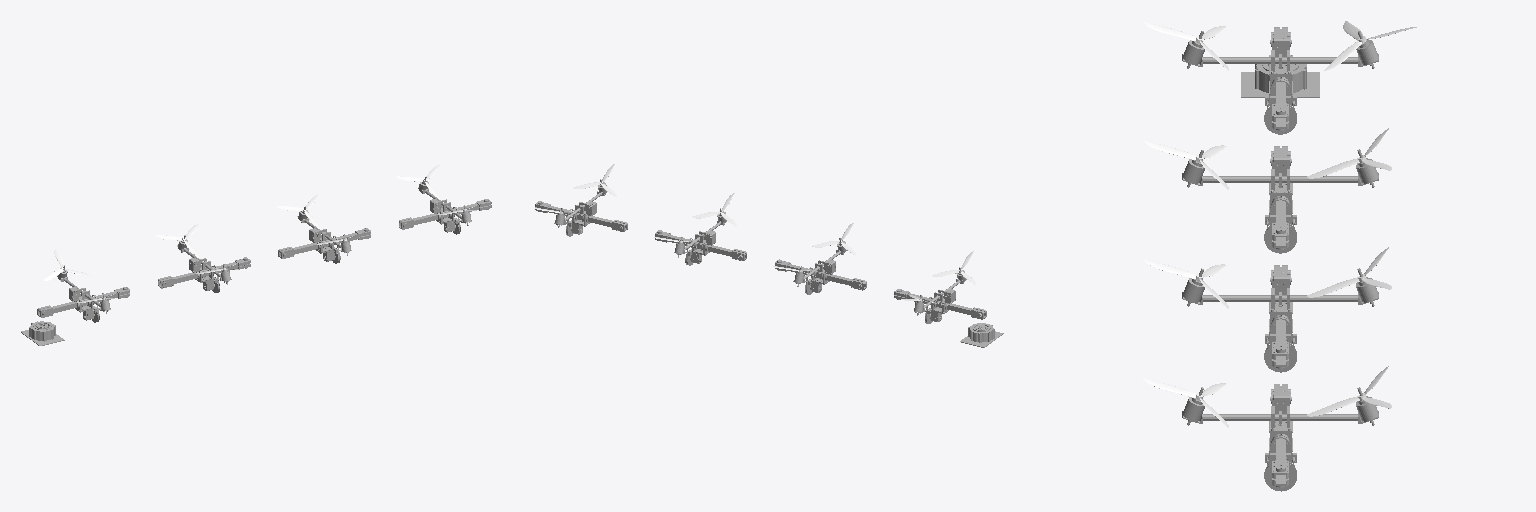
--- Facts derived from the render (not from the file) ---
The picture shows the robot from 3 angles, left to right: view 1: azimuth 30°, elevation 25°; view 2: azimuth 150°, elevation 25°; view 3: azimuth 270°, elevation 25°; orthographic projection.
Model dynarm with 25 links and 24 joints (16 revolute, 8 continuous), rooted at link0_yaw, posed all joints at 0.
Visible links, largest first — view 1: link0_yaw, link2, link1, link3, link4, gimbal3_roll_link, gimbal4_roll_link, gimbal2_roll_link, gimbal1_roll_link; view 2: link0_yaw, link2, link4, link3, link1, gimbal4_roll_link, gimbal1_roll_link, gimbal2_roll_link, gimbal3_roll_link; view 3: gimbal3_pitch_link, gimbal4_pitch_link, gimbal2_pitch_link, gimbal1_pitch_link, link0_yaw, gimbal2_roll_link, gimbal3_roll_link, gimbal1_roll_link, gimbal4_roll_link, link1, link3, link4 (+9 smaller).
Link boxes in pixels (box(x1,y1,x2,y2)): link0_yaw: box(21, 321, 64, 345); link2: box(158, 257, 250, 288); link1: box(37, 287, 129, 317); link3: box(278, 228, 370, 258); link4: box(399, 199, 491, 229); gimbal3_roll_link: box(309, 228, 340, 263); gimbal4_roll_link: box(430, 199, 460, 234); gimbal2_roll_link: box(189, 258, 219, 292); gimbal1_roll_link: box(69, 287, 99, 322); link0_yaw: box(960, 323, 1003, 347); link2: box(775, 259, 866, 290); link4: box(535, 201, 627, 231); link3: box(655, 230, 746, 260); link1: box(894, 289, 986, 319); gimbal4_roll_link: box(566, 201, 596, 236); gimbal1_roll_link: box(925, 289, 955, 323); gimbal2_roll_link: box(805, 260, 835, 294); gimbal3_roll_link: box(685, 230, 715, 265); gimbal3_pitch_link: box(1182, 268, 1378, 306); gimbal4_pitch_link: box(1182, 387, 1378, 425); gimbal2_pitch_link: box(1182, 149, 1378, 187); gimbal1_pitch_link: box(1182, 31, 1378, 68); link0_yaw: box(1241, 55, 1319, 97); gimbal2_roll_link: box(1264, 153, 1296, 253); gimbal3_roll_link: box(1264, 272, 1296, 372); gimbal1_roll_link: box(1264, 34, 1296, 134); gimbal4_roll_link: box(1264, 391, 1296, 491); link1: box(1271, 27, 1290, 130); link3: box(1271, 265, 1290, 368); link4: box(1271, 384, 1290, 487).
Size in the robot's own frame: 2.05 by 0.5227 by 0.2345 metres.
21 mesh visuals loaded from 25 distinct referenced files (21 binary STL); not drawn: 4 (reference not matched to a file when rendering).

robot.urdf — dynarm:
<?xml version="1.0" encoding="utf-8"?>
<!-- This URDF was automatically created by SolidWorks to URDF Exporter! Originally created by Stephen Brawner ([email redacted])
     Commit Version:   Build Version: 1.6.9177.32434
     For more information, please see http://wiki.ros.org/sw_urdf_exporter -->
<robot
  name="dynarm">
  <link
    name="link0_yaw">
    <inertial>
      <origin
        xyz="3.31255956252976E-05 1.15658100248258E-05 0.012805655443526"
        rpy="0 0 0" />
      <mass
        value="0.202835209357215" />
      <inertia
        ixx="0.000313884810342584"
        ixy="7.84593995762058E-08"
        ixz="1.65209076612003E-08"
        iyy="0.000194943598185669"
        iyz="1.00214618614055E-07"
        izz="0.000493468590754404" />
    </inertial>
    <visual>
      <origin
        xyz="0 0 0"
        rpy="0 0 0" />
      <geometry>
        <mesh
          filename="package://dynarm/meshes/link0_yaw.STL" />
      </geometry>
      <material
        name="">
        <color
          rgba="0.752941176470588 0.752941176470588 0.752941176470588 1" />
      </material>
    </visual>
    <collision>
      <origin
        xyz="0 0 0"
        rpy="0 0 0" />
      <geometry>
        <mesh
          filename="package://dynarm/meshes/link0_yaw.STL" />
      </geometry>
    </collision>
  </link>
  <link
    name="link0_pitch">
    <inertial>
      <origin
        xyz="2.75682995683624E-05 -0.0207254370925221 0.0330796625665108"
        rpy="0 0 0" />
      <mass
        value="0.243723306465681" />
      <inertia
        ixx="0.000542727956132241"
        ixy="1.65209076612627E-08"
        ixz="-7.84593995762679E-08"
        iyy="0.000303489729556367"
        iyz="-5.21956901971195E-05"
        izz="0.000613838498216042" />
    </inertial>
    <visual>
      <origin
        xyz="0 0 0"
        rpy="0 0 0" />
      <geometry>
        <mesh
          filename="package://dynarm/meshes/link0_pitch.STL" />
      </geometry>
      <material
        name="">
        <color
          rgba="0.752941176470588 0.752941176470588 0.752941176470588 1" />
      </material>
    </visual>
    <collision>
      <origin
        xyz="0 0 0"
        rpy="0 0 0" />
      <geometry>
        <mesh
          filename="package://dynarm/meshes/link0_pitch.STL" />
      </geometry>
    </collision>
  </link>
  <joint
    name="joint0_yaw"
    type="revolute">
    <origin
      xyz="0 0 0.045"
      rpy="0 0 0" />
    <parent
      link="link0_yaw" />
    <child
      link="link0_pitch" />
    <axis
      xyz="0 0 1" />
    <limit
      lower="-1.57"
      upper="1.57"
      effort="60"
      velocity="18" />
  </joint>
  <link
    name="link1">
    <inertial>
      <origin
        xyz="0.185 -3.17712745352656E-12 1.11022302462516E-15"
        rpy="0 0 0" />
      <mass
        value="0.0840915711089313" />
      <inertia
        ixx="1.14003870333859E-05"
        ixy="3.20420589044303E-20"
        ixz="-1.14579622871697E-12"
        iyy="0.000616207420184558"
        iyz="-1.60102285053397E-21"
        izz="0.000616279232581621" />
    </inertial>
    <visual>
      <origin
        xyz="0 0 0"
        rpy="0 0 0" />
      <geometry>
        <mesh
          filename="package://dynarm/meshes/link1.STL" />
      </geometry>
      <material
        name="">
        <color
          rgba="0.752941176470588 0.752941176470588 0.752941176470588 1" />
      </material>
    </visual>
    <collision>
      <origin
        xyz="0 0 0"
        rpy="0 0 0" />
      <geometry>
        <mesh
          filename="package://dynarm/meshes/link1.STL" />
      </geometry>
    </collision>
  </link>
  <joint
    name="joint0_pitch"
    type="revolute">
    <origin
      xyz="0 0 0.057"
      rpy="0 0 0" />
    <parent
      link="link0_pitch" />
    <child
      link="link1" />
    <axis
      xyz="0 1 0" />
    <limit
      lower="-1.57"
      upper="1.57"
      effort="60"
      velocity="18" />
  </joint>
  <link
    name="joint_junction1">
    <inertial>
      <origin
        xyz="0.0835022641004513 -0.00234984407754755 0.00234984407754885"
        rpy="0 0 0" />
      <mass
        value="0.291440287737061" />
      <inertia
        ixx="6.00364250648426E-05"
        ixy="-6.07955484455447E-08"
        ixz="-6.07955484415956E-08"
        iyy="0.000152064824279413"
        iyz="-8.9023224797137E-13"
        izz="0.000152064824279408" />
    </inertial>
    <visual>
      <origin
        xyz="0 0 0"
        rpy="0 0 0" />
      <geometry>
        <mesh
          filename="package://dynarm/meshes/joint_junction1.STL" />
      </geometry>
      <material
        name="">
        <color
          rgba="0.752941176470588 0.752941176470588 0.752941176470588 1" />
      </material>
    </visual>
    <collision>
      <origin
        xyz="0 0 0"
        rpy="0 0 0" />
      <geometry>
        <mesh
          filename="package://dynarm/meshes/joint_junction1.STL" />
      </geometry>
    </collision>
  </link>
  <joint
    name="joint1_yaw"
    type="revolute">
    <origin
      xyz="0.37 0 0"
      rpy="0 0 0" />
    <parent
      link="link1" />
    <child
      link="joint_junction1" />
    <axis
      xyz="0 0 1" />
    <limit
      lower="-1.57"
      upper="1.57"
      effort="20"
      velocity="7" />
  </joint>
  <link
    name="link2">
    <inertial>
      <origin
        xyz="0.185 -3.17712538652889E-12 1.13797860024079E-15"
        rpy="0 0 0" />
      <mass
        value="0.0840915711089313" />
      <inertia
        ixx="1.14003870333859E-05"
        ixy="3.61454276921128E-20"
        ixz="-1.14579625393598E-12"
        iyy="0.000616207420184558"
        iyz="4.67312622535356E-22"
        izz="0.00061627923258162" />
    </inertial>
    <visual>
      <origin
        xyz="0 0 0"
        rpy="0 0 0" />
      <geometry>
        <mesh
          filename="package://dynarm/meshes/link2.STL" />
      </geometry>
      <material
        name="">
        <color
          rgba="0.752941176470588 0.752941176470588 0.752941176470588 1" />
      </material>
    </visual>
    <collision>
      <origin
        xyz="0 0 0"
        rpy="0 0 0" />
      <geometry>
        <mesh
          filename="package://dynarm/meshes/link2.STL" />
      </geometry>
    </collision>
  </link>
  <joint
    name="joint1_pitch"
    type="revolute">
    <origin
      xyz="0.167 0 0"
      rpy="0 0 0" />
    <parent
      link="joint_junction1" />
    <child
      link="link2" />
    <axis
      xyz="0 1 0" />
    <limit
      lower="-1.57"
      upper="1.57"
      effort="20"
      velocity="7" />
  </joint>
  <link
    name="joint_junction2">
    <inertial>
      <origin
        xyz="0.08350226410045 -0.00234984407754901 0.00234984407754869"
        rpy="0 0 0" />
      <mass
        value="0.291440287737085" />
      <inertia
        ixx="6.00364250648492E-05"
        ixy="-6.079554844056E-08"
        ixz="-6.07955484397667E-08"
        iyy="0.000152064824279416"
        iyz="-8.90236117288688E-13"
        izz="0.000152064824279417" />
    </inertial>
    <visual>
      <origin
        xyz="0 0 0"
        rpy="0 0 0" />
      <geometry>
        <mesh
          filename="package://dynarm/meshes/joint_junction2.STL" />
      </geometry>
      <material
        name="">
        <color
          rgba="0.752941176470588 0.752941176470588 0.752941176470588 1" />
      </material>
    </visual>
    <collision>
      <origin
        xyz="0 0 0"
        rpy="0 0 0" />
      <geometry>
        <mesh
          filename="package://dynarm/meshes/joint_junction2.STL" />
      </geometry>
    </collision>
  </link>
  <joint
    name="joint2_yaw"
    type="revolute">
    <origin
      xyz="0.37 0 0"
      rpy="0 0 0" />
    <parent
      link="link2" />
    <child
      link="joint_junction2" />
    <axis
      xyz="0 0 1" />
    <limit
      lower="-1.57"
      upper="1.57"
      effort="20"
      velocity="7" />
  </joint>
  <link
    name="link3">
    <inertial>
      <origin
        xyz="0.184999999999999 -3.17700950097411E-12 1.02695629777827E-15"
        rpy="0 0 0" />
      <mass
        value="0.0840915711089313" />
      <inertia
        ixx="1.14003870333859E-05"
        ixy="6.8336355717333E-20"
        ixz="-1.14579626970238E-12"
        iyy="0.000616207420184558"
        iyz="-1.85491734600047E-22"
        izz="0.00061627923258162" />
    </inertial>
    <visual>
      <origin
        xyz="0 0 0"
        rpy="0 0 0" />
      <geometry>
        <mesh
          filename="package://dynarm/meshes/link3.STL" />
      </geometry>
      <material
        name="">
        <color
          rgba="0.752941176470588 0.752941176470588 0.752941176470588 1" />
      </material>
    </visual>
    <collision>
      <origin
        xyz="0 0 0"
        rpy="0 0 0" />
      <geometry>
        <mesh
          filename="package://dynarm/meshes/link3.STL" />
      </geometry>
    </collision>
  </link>
  <joint
    name="joint2_pitch"
    type="revolute">
    <origin
      xyz="0.167 0 0"
      rpy="0 0 0" />
    <parent
      link="joint_junction2" />
    <child
      link="link3" />
    <axis
      xyz="0 1 0" />
    <limit
      lower="-1.57"
      upper="1.57"
      effort="20"
      velocity="7" />
  </joint>
  <link
    name="joint_junction3">
    <inertial>
      <origin
        xyz="0.0835022641004497 -0.00234984407754898 0.00234984407754882"
        rpy="0 0 0" />
      <mass
        value="0.29144028773709" />
      <inertia
        ixx="6.00364250648493E-05"
        ixy="-6.07955484411552E-08"
        ixz="-6.07955484399088E-08"
        iyy="0.000152064824279418"
        iyz="-8.90235946148651E-13"
        izz="0.000152064824279418" />
    </inertial>
    <visual>
      <origin
        xyz="0 0 0"
        rpy="0 0 0" />
      <geometry>
        <mesh
          filename="package://dynarm/meshes/joint_junction3.STL" />
      </geometry>
      <material
        name="">
        <color
          rgba="0.752941176470588 0.752941176470588 0.752941176470588 1" />
      </material>
    </visual>
    <collision>
      <origin
        xyz="0 0 0"
        rpy="0 0 0" />
      <geometry>
        <mesh
          filename="package://dynarm/meshes/joint_junction3.STL" />
      </geometry>
    </collision>
  </link>
  <joint
    name="joint3_yaw"
    type="revolute">
    <origin
      xyz="0.37 0 0"
      rpy="0 0 0" />
    <parent
      link="link3" />
    <child
      link="joint_junction3" />
    <axis
      xyz="0 0 1" />
    <limit
      lower="-1.57"
      upper="1.57"
      effort="20"
      velocity="7" />
  </joint>
  <link
    name="link4">
    <inertial>
      <origin
        xyz="0.185 -3.1771276198254E-12 1.12410081243297E-15"
        rpy="0 0 0" />
      <mass
        value="0.0840915711089313" />
      <inertia
        ixx="1.14003870333859E-05"
        ixy="6.71390156612718E-20"
        ixz="-1.14579628044419E-12"
        iyy="0.000616207420184558"
        iyz="-1.35412586657382E-21"
        izz="0.000616279232581621" />
    </inertial>
    <visual>
      <origin
        xyz="0 0 0"
        rpy="0 0 0" />
      <geometry>
        <mesh
          filename="package://dynarm/meshes/link4.STL" />
      </geometry>
      <material
        name="">
        <color
          rgba="0.752941176470588 0.752941176470588 0.752941176470588 1" />
      </material>
    </visual>
    <collision>
      <origin
        xyz="0 0 0"
        rpy="0 0 0" />
      <geometry>
        <mesh
          filename="package://dynarm/meshes/link4.STL" />
      </geometry>
    </collision>
  </link>
  <joint
    name="joint3_pitch"
    type="revolute">
    <origin
      xyz="0.167 0 0"
      rpy="0 0 0" />
    <parent
      link="joint_junction3" />
    <child
      link="link4" />
    <axis
      xyz="0 1 0" />
    <limit
      lower="-1.57"
      upper="1.57"
      effort="20"
      velocity="7" />
  </joint>
  <link
    name="gimbal4_roll_link">
    <inertial>
      <origin
        xyz="-0.00313199549125609 0.000175760802133387 -0.00796401788663213"
        rpy="0 0 0" />
      <mass
        value="0.335622086319264" />
      <inertia
        ixx="8.61300964446551E-05"
        ixy="-2.80491938176827E-08"
        ixz="1.16176930623622E-06"
        iyy="8.58040377038163E-05"
        iyz="-6.72934804709772E-07"
        izz="6.7292635546809E-05" />
    </inertial>
    <visual>
      <origin
        xyz="0 0 0"
        rpy="0 0 0" />
      <geometry>
        <mesh
          filename="package://dynarm/meshes/gimbal4_roll_link.STL" />
      </geometry>
      <material
        name="">
        <color
          rgba="0.752941176470588 0.752941176470588 0.752941176470588 1" />
      </material>
    </visual>
    <collision>
      <origin
        xyz="0 0 0"
        rpy="0 0 0" />
      <geometry>
        <mesh
          filename="package://dynarm/meshes/gimbal4_roll_link.STL" />
      </geometry>
    </collision>
  </link>
  <joint
    name="gimbal4_roll"
    type="revolute">
    <origin
      xyz="0.185 0 0"
      rpy="0 0 0" />
    <parent
      link="link4" />
    <child
      link="gimbal4_roll_link" />
    <axis
      xyz="1 0 0" />
    <limit
      lower="0"
      upper="0"
      effort="0"
      velocity="0" />
  </joint>
  <link
    name="gimbal4_pitch_link">
    <inertial>
      <origin
        xyz="7.7339246118413E-11 -1.0131752370262E-09 0.0209107926512141"
        rpy="0 0 0" />
      <mass
        value="0.299322163107954" />
      <inertia
        ixx="0.000240672498816337"
        ixy="4.64638431751806E-10"
        ixz="2.39568155202262E-14"
        iyy="0.000132329423602379"
        iyz="2.71507600986251E-13"
        izz="0.000313989589389247" />
    </inertial>
    <visual>
      <origin
        xyz="0 0 0"
        rpy="0 0 0" />
      <geometry>
        <mesh
          filename="package://dynarm/meshes/gimbal4_pitch_link.STL" />
      </geometry>
      <material
        name="">
        <color
          rgba="0.752941176470588 0.752941176470588 0.752941176470588 1" />
      </material>
    </visual>
    <collision>
      <origin
        xyz="0 0 0"
        rpy="0 0 0" />
      <geometry>
        <mesh
          filename="package://dynarm/meshes/gimbal4_pitch_link.STL" />
      </geometry>
    </collision>
  </link>
  <joint
    name="gimbal4_pitch"
    type="revolute">
    <origin
      xyz="0 0 0.0375"
      rpy="0 0 0" />
    <parent
      link="gimbal4_roll_link" />
    <child
      link="gimbal4_pitch_link" />
    <axis
      xyz="0 1 0" />
    <limit
      lower="0"
      upper="0"
      effort="0"
      velocity="0" />
  </joint>
  <link
    name="thrust7">
    <inertial>
      <origin
        xyz="-1.08574846098989 -0.181723132944138 0.0223263889567198"
        rpy="0 0 0" />
      <mass
        value="6.97204839826119" />
      <inertia
        ixx="0.053705335177004"
        ixy="-0.058392183804613"
        ixz="-0.0631195693330624"
        iyy="2.81026516998183"
        iyz="0.00775655772655853"
        izz="2.8283403743391" />
    </inertial>
    <visual>
      <origin
        xyz="0 0 0"
        rpy="0 0 0" />
      <geometry>
        <mesh
          filename="package://dynarm/meshes/thrust7.STL" />
      </geometry>
      <material
        name="">
        <color
          rgba="1 1 1 1" />
      </material>
    </visual>
    <collision>
      <origin
        xyz="0 0 0"
        rpy="0 0 0" />
      <geometry>
        <mesh
          filename="package://dynarm/meshes/thrust7.STL" />
      </geometry>
    </collision>
  </link>
  <joint
    name="rotor7"
    type="continuous">
    <origin
      xyz="0 0.1708 0.001457"
      rpy="0.34907 0 0" />
    <parent
      link="gimbal4_pitch_link" />
    <child
      link="thrust7" />
    <axis
      xyz="0 0 1" />
    <limit
      lower="0"
      upper="25"
      effort="100"
      velocity="0.5" />
  </joint>
  <link
    name="thrust8">
    <inertial>
      <origin
        xyz="-1.08574846098989 0.167444343720301 0.0171293346978822"
        rpy="0 0 0" />
      <mass
        value="6.97204839826119" />
      <inertia
        ixx="0.053705335177004"
        ixy="-0.00415853082906267"
        ixz="-0.0858861675918003"
        iyy="2.81009469082587"
        iyz="-0.00755338857997578"
        izz="2.82851085349507" />
    </inertial>
    <visual>
      <origin
        xyz="0 0 0"
        rpy="0 0 0" />
      <geometry>
        <mesh
          filename="package://dynarm/meshes/thrust8.STL" />
      </geometry>
      <material
        name="">
        <color
          rgba="1 1 1 1" />
      </material>
    </visual>
    <collision>
      <origin
        xyz="0 0 0"
        rpy="0 0 0" />
      <geometry>
        <mesh
          filename="package://dynarm/meshes/thrust8.STL" />
      </geometry>
    </collision>
  </link>
  <joint
    name="rotor8"
    type="continuous">
    <origin
      xyz="0 -0.1708 0.001457"
      rpy="-0.34907 0 0" />
    <parent
      link="gimbal4_pitch_link" />
    <child
      link="thrust8" />
    <axis
      xyz="0 0 -1" />
    <limit
      lower="0"
      upper="25"
      effort="100"
      velocity="0.5" />
  </joint>
  <link
    name="gimbal3_roll_link">
    <inertial>
      <origin
        xyz="-0.00313199549125742 0.000175760802133396 -0.0079640178866323"
        rpy="0 0 0" />
      <mass
        value="0.335622086319265" />
      <inertia
        ixx="8.61300964446562E-05"
        ixy="-2.80491938176786E-08"
        ixz="1.16176930623628E-06"
        iyy="8.58040377038171E-05"
        iyz="-6.7293480470975E-07"
        izz="6.7292635546809E-05" />
    </inertial>
    <visual>
      <origin
        xyz="0 0 0"
        rpy="0 0 0" />
      <geometry>
        <mesh
          filename="package://dynarm/meshes/gimbal3_roll_link.STL" />
      </geometry>
      <material
        name="">
        <color
          rgba="0.752941176470588 0.752941176470588 0.752941176470588 1" />
      </material>
    </visual>
    <collision>
      <origin
        xyz="0 0 0"
        rpy="0 0 0" />
      <geometry>
        <mesh
          filename="package://dynarm/meshes/gimbal3_roll_link.STL" />
      </geometry>
    </collision>
  </link>
  <joint
    name="gimbal3_roll"
    type="revolute">
    <origin
      xyz="0.185 0 0"
      rpy="0 0 0" />
    <parent
      link="link3" />
    <child
      link="gimbal3_roll_link" />
    <axis
      xyz="1 0 0" />
    <limit
      lower="0"
      upper="0"
      effort="0"
      velocity="0" />
  </joint>
  <link
    name="gimbal3_pitch_link">
    <inertial>
      <origin
        xyz="2.25772733841723E-10 3.44750054786651E-11 0.0209107926922538"
        rpy="0 0 0" />
      <mass
        value="0.299322164256617" />
      <inertia
        ixx="0.000240672499850655"
        ixy="4.63874656851277E-10"
        ixz="4.8113733835696E-13"
        iyy="0.000132329430343243"
        iyz="-8.38414010086978E-14"
        izz="0.000313989596923369" />
    </inertial>
    <visual>
      <origin
        xyz="0 0 0"
        rpy="0 0 0" />
      <geometry>
        <mesh
          filename="package://dynarm/meshes/gimbal3_pitch_link.STL" />
      </geometry>
      <material
        name="">
        <color
          rgba="0.752941176470588 0.752941176470588 0.752941176470588 1" />
      </material>
    </visual>
    <collision>
      <origin
        xyz="0 0 0"
        rpy="0 0 0" />
      <geometry>
        <mesh
          filename="package://dynarm/meshes/gimbal3_pitch_link.STL" />
      </geometry>
    </collision>
  </link>
  <joint
    name="gimbal3_pitch"
    type="revolute">
    <origin
      xyz="0 0 0.0375"
      rpy="0 0 0" />
    <parent
      link="gimbal3_roll_link" />
    <child
      link="gimbal3_pitch_link" />
    <axis
      xyz="0 1 0" />
    <limit
      lower="0"
      upper="0"
      effort="0"
      velocity="0" />
  </joint>
  <link
    name="thrust5">
    <inertial>
      <origin
        xyz="-0.548748460989885 -0.18172313294414 0.0223263889567321"
        rpy="0 0 0" />
      <mass
        value="6.97204839826119" />
      <inertia
        ixx="0.0537053351770021"
        ixy="-0.0583921838046033"
        ixz="-0.0631195693330295"
        iyy="2.81026516998183"
        iyz="0.00775655772655953"
        izz="2.82834037433911" />
    </inertial>
    <visual>
      <origin
        xyz="0 0 0"
        rpy="0 0 0" />
      <geometry>
        <mesh
          filename="package://dynarm/meshes/thrust5.STL" />
      </geometry>
      <material
        name="">
        <color
          rgba="1 1 1 1" />
      </material>
    </visual>
    <collision>
      <origin
        xyz="0 0 0"
        rpy="0 0 0" />
      <geometry>
        <mesh
          filename="package://dynarm/meshes/thrust5.STL" />
      </geometry>
    </collision>
  </link>
  <joint
    name="rotor5"
    type="continuous">
    <origin
      xyz="0 0.1708 0.001457"
      rpy="0.34907 0 0" />
    <parent
      link="gimbal3_pitch_link" />
    <child
      link="thrust5" />
    <axis
      xyz="0 0 1" />
    <limit
      lower="0"
      upper="25"
      effort="100"
      velocity="0.5" />
  </joint>
  <link
    name="thrust6">
    <inertial>
      <origin
        xyz="-0.548748460989885 0.167444343720292 0.0171293346978902"
        rpy="0 0 0" />
      <mass
        value="6.97204839826119" />
      <inertia
        ixx="0.0537053351770021"
        ixy="-0.00415853082907617"
        ixz="-0.0858861675917688"
        iyy="2.81009469082587"
        iyz="-0.00755338857997612"
        izz="2.82851085349507" />
    </inertial>
    <visual>
      <origin
        xyz="0 0 0"
        rpy="0 0 0" />
      <geometry>
        <mesh
          filename="package://dynarm/meshes/thrust6.STL" />
      </geometry>
      <material
        name="">
        <color
          rgba="1 1 1 1" />
      </material>
    </visual>
    <collision>
      <origin
        xyz="0 0 0"
        rpy="0 0 0" />
      <geometry>
        <mesh
          filename="package://dynarm/meshes/thrust6.STL" />
      </geometry>
    </collision>
  </link>
  <joint
    name="rotor6"
    type="continuous">
    <origin
      xyz="0 -0.1708 0.001457"
      rpy="-0.34907 0 0" />
    <parent
      link="gimbal3_pitch_link" />
    <child
      link="thrust6" />
    <axis
      xyz="0 0 -1" />
    <limit
      lower="0"
      upper="25"
      effort="100"
      velocity="0.5" />
  </joint>
  <link
    name="gimbal2_roll_link">
    <inertial>
      <origin
        xyz="-0.00313199549125676 0.000175760802133392 -0.00796401788663227"
        rpy="0 0 0" />
      <mass
        value="0.335622086319265" />
      <inertia
        ixx="8.61300964446558E-05"
        ixy="-2.80491938176926E-08"
        ixz="1.16176930623644E-06"
        iyy="8.58040377038169E-05"
        iyz="-6.72934804709742E-07"
        izz="6.72926355468089E-05" />
    </inertial>
    <visual>
      <origin
        xyz="0 0 0"
        rpy="0 0 0" />
      <geometry>
        <mesh
          filename="package://dynarm/meshes/gimbal2_roll_link.STL" />
      </geometry>
      <material
        name="">
        <color
          rgba="0.752941176470588 0.752941176470588 0.752941176470588 1" />
      </material>
    </visual>
    <collision>
      <origin
        xyz="0 0 0"
        rpy="0 0 0" />
      <geometry>
        <mesh
          filename="package://dynarm/meshes/gimbal2_roll_link.STL" />
      </geometry>
    </collision>
  </link>
  <joint
    name="gimbal2_roll"
    type="revolute">
    <origin
      xyz="0.185 0 0"
      rpy="0 0 0" />
    <parent
      link="link2" />
    <child
      link="gimbal2_roll_link" />
    <axis
      xyz="1 0 0" />
    <limit
      lower="0"
      upper="0"
      effort="0"
      velocity="0" />
  </joint>
  <link
    name="gimbal2_pitch_link">
    <inertial>
      <origin
        xyz="1.47367118508157E-10 -4.46098992519547E-10 0.0209107926606604"
        rpy="0 0 0" />
      <mass
        value="0.29932216325034" />
      <inertia
        ixx="0.000240672498703438"
        ixy="4.63638989261606E-10"
        ixz="4.56603444884101E-13"
        iyy="0.000132329422679545"
        iyz="-6.7251573867703E-14"
        izz="0.000313989588392316" />
    </inertial>
    <visual>
      <origin
        xyz="0 0 0"
        rpy="0 0 0" />
      <geometry>
        <mesh
          filename="package://dynarm/meshes/gimbal2_pitch_link.STL" />
      </geometry>
      <material
        name="">
        <color
          rgba="0.752941176470588 0.752941176470588 0.752941176470588 1" />
      </material>
    </visual>
    <collision>
      <origin
        xyz="0 0 0"
        rpy="0 0 0" />
      <geometry>
        <mesh
          filename="package://dynarm/meshes/gimbal2_pitch_link.STL" />
      </geometry>
    </collision>
  </link>
  <joint
    name="gimbal2_pitch"
    type="revolute">
    <origin
      xyz="0 0 0.0375"
      rpy="0 0 0" />
    <parent
      link="gimbal2_roll_link" />
    <child
      link="gimbal2_pitch_link" />
    <axis
      xyz="0 1 0" />
    <limit
      lower="0"
      upper="0"
      effort="0"
      velocity="0" />
  </joint>
  <link
    name="thrust3">
    <inertial>
      <origin
        xyz="-0.0117484609898836 -0.181723132944144 0.0223263889567382"
        rpy="0 0 0" />
      <mass
        value="6.97204839826119" />
      <inertia
        ixx="0.0537053351770001"
        ixy="-0.0583921838045903"
        ixz="-0.0631195693329973"
        iyy="2.81026516998183"
        iyz="0.00775655772656059"
        izz="2.82834037433911" />
    </inertial>
    <visual>
      <origin
        xyz="0 0 0"
        rpy="0 0 0" />
      <geometry>
        <mesh
          filename="package://dynarm/meshes/thrust3.STL" />
      </geometry>
      <material
        name="">
        <color
          rgba="1 1 1 1" />
      </material>
    </visual>
    <collision>
      <origin
        xyz="0 0 0"
        rpy="0 0 0" />
      <geometry>
        <mesh
          filename="package://dynarm/meshes/thrust3.STL" />
      </geometry>
    </collision>
  </link>
  <joint
    name="rotor3"
    type="continuous">
    <origin
      xyz="0 0.1708 0.001457"
      rpy="0.34907 0 0" />
    <parent
      link="gimbal2_pitch_link" />
    <child
      link="thrust3" />
    <axis
      xyz="0 0 1" />
    <limit
      lower="0"
      upper="25"
      effort="100"
      velocity="0.5" />
  </joint>
  <link
    name="thrust4">
    <inertial>
      <origin
        xyz="-0.011748460989885 0.167444343720285 0.0171293346978922"
        rpy="0 0 0" />
      <mass
        value="6.97204839826119" />
      <inertia
        ixx="0.0537053351770001"
        ixy="-0.00415853082908699"
        ixz="-0.0858861675917359"
        iyy="2.81009469082587"
        iyz="-0.00755338857997645"
        izz="2.82851085349508" />
    </inertial>
    <visual>
      <origin
        xyz="0 0 0"
        rpy="0 0 0" />
      <geometry>
        <mesh
          filename="package://dynarm/meshes/thrust4.STL" />
      </geometry>
      <material
        name="">
        <color
          rgba="1 1 1 1" />
      </material>
    </visual>
    <collision>
      <origin
        xyz="0 0 0"
        rpy="0 0 0" />
      <geometry>
        <mesh
          filename="package://dynarm/meshes/thrust4.STL" />
      </geometry>
    </collision>
  </link>
  <joint
    name="rotor4"
    type="continuous">
    <origin
      xyz="0 -0.1708 0.001457"
      rpy="-0.34907 0 0" />
    <parent
      link="gimbal2_pitch_link" />
    <child
      link="thrust4" />
    <axis
      xyz="0 0 -1" />
    <limit
      lower="0"
      upper="25"
      effort="100"
      velocity="0.5" />
  </joint>
  <link
    name="gimbal1_roll_link">
    <inertial>
      <origin
        xyz="-0.00313199549125659 0.000175760802133387 -0.00796401788663229"
        rpy="0 0 0" />
      <mass
        value="0.335622086319265" />
      <inertia
        ixx="8.61300964446559E-05"
        ixy="-2.80491938176829E-08"
        ixz="1.16176930623642E-06"
        iyy="8.58040377038169E-05"
        iyz="-6.7293480470969E-07"
        izz="6.7292635546809E-05" />
    </inertial>
    <visual>
      <origin
        xyz="0 0 0"
        rpy="0 0 0" />
      <geometry>
        <mesh
          filename="package://dynarm/meshes/gimbal1_roll_link.STL" />
      </geometry>
      <material
        name="">
        <color
          rgba="0.752941176470588 0.752941176470588 0.752941176470588 1" />
      </material>
    </visual>
    <collision>
      <origin
        xyz="0 0 0"
        rpy="0 0 0" />
      <geometry>
        <mesh
          filename="package://dynarm/meshes/gimbal1_roll_link.STL" />
      </geometry>
    </collision>
  </link>
  <joint
    name="gimbal1_roll"
    type="revolute">
    <origin
      xyz="0.185 0 0"
      rpy="0 0 0" />
    <parent
      link="link1" />
    <child
      link="gimbal1_roll_link" />
    <axis
      xyz="1 0 0" />
    <limit
      lower="0"
      upper="0"
      effort="0"
      velocity="0" />
  </joint>
  <link
    name="gimbal1_pitch_link">
    <inertial>
      <origin
        xyz="-3.63002405912027E-11 -8.71945993481049E-10 0.0209107925989504"
        rpy="0 0 0" />
      <mass
        value="0.299322162313254" />
      <inertia
        ixx="0.000240672499005374"
        ixy="4.62131413952954E-10"
        ixz="-1.22088641065952E-13"
        iyy="0.000132329423914234"
        iyz="1.51694616202209E-13"
        izz="0.000313989589928258" />
    </inertial>
    <visual>
      <origin
        xyz="0 0 0"
        rpy="0 0 0" />
      <geometry>
        <mesh
          filename="package://dynarm/meshes/gimbal1_pitch_link.STL" />
      </geometry>
      <material
        name="">
        <color
          rgba="0.752941176470588 0.752941176470588 0.752941176470588 1" />
      </material>
    </visual>
    <collision>
      <origin
        xyz="0 0 0"
        rpy="0 0 0" />
      <geometry>
        <mesh
          filename="package://dynarm/meshes/gimbal1_pitch_link.STL" />
      </geometry>
    </collision>
  </link>
  <joint
    name="gimbal1_pitch"
    type="revolute">
    <origin
      xyz="0 0 0.0375"
      rpy="0 0 0" />
    <parent
      link="gimbal1_roll_link" />
    <child
      link="gimbal1_pitch_link" />
    <axis
      xyz="0 1 0" />
    <limit
      lower="0"
      upper="0"
      effort="0"
      velocity="0" />
  </joint>
  <link
    name="thrust1">
    <inertial>
      <origin
        xyz="0.525251539010115 -0.181723132944149 0.0223263889567397"
        rpy="0 0 0" />
      <mass
        value="6.97204839826119" />
      <inertia
        ixx="0.0537053351770001"
        ixy="-0.058392183804593"
        ixz="-0.0631195693329959"
        iyy="2.81026516998183"
        iyz="0.00775655772656075"
        izz="2.82834037433911" />
    </inertial>
    <visual>
      <origin
        xyz="0 0 0"
        rpy="0 0 0" />
      <geometry>
        <mesh
          filename="package://dynarm/meshes/thrust1.STL" />
      </geometry>
      <material
        name="">
        <color
          rgba="1 1 1 1" />
      </material>
    </visual>
    <collision>
      <origin
        xyz="0 0 0"
        rpy="0 0 0" />
      <geometry>
        <mesh
          filename="package://dynarm/meshes/thrust1.STL" />
      </geometry>
    </collision>
  </link>
  <joint
    name="rotor1"
    type="continuous">
    <origin
      xyz="0 0.1708 0.001457"
      rpy="0.34907 0 0" />
    <parent
      link="gimbal1_pitch_link" />
    <child
      link="thrust1" />
    <axis
      xyz="0 0 1" />
    <limit
      lower="0"
      upper="25"
      effort="100"
      velocity="0.5" />
  </joint>
  <link
    name="thrust2">
    <inertial>
      <origin
        xyz="0.525251539010115 0.167444343720279 0.0171293346978902"
        rpy="0 0 0" />
      <mass
        value="6.97204839826119" />
      <inertia
        ixx="0.0537053351770001"
        ixy="-0.00415853082909001"
        ixz="-0.0858861675917363"
        iyy="2.81009469082587"
        iyz="-0.00755338857997601"
        izz="2.82851085349507" />
    </inertial>
    <visual>
      <origin
        xyz="0 0 0"
        rpy="0 0 0" />
      <geometry>
        <mesh
          filename="package://dynarm/meshes/thrust2.STL" />
      </geometry>
      <material
        name="">
        <color
          rgba="1 1 1 1" />
      </material>
    </visual>
    <collision>
      <origin
        xyz="0 0 0"
        rpy="0 0 0" />
      <geometry>
        <mesh
          filename="package://dynarm/meshes/thrust2.STL" />
      </geometry>
    </collision>
  </link>
  <joint
    name="rotor2"
    type="continuous">
    <origin
      xyz="0 -0.1708 0.001457"
      rpy="-0.34907 0 0" />
    <parent
      link="gimbal1_pitch_link" />
    <child
      link="thrust2" />
    <axis
      xyz="0 0 -1" />
    <limit
      lower="0"
      upper="25"
      effort="100"
      velocity="0.5" />
  </joint>
</robot>
